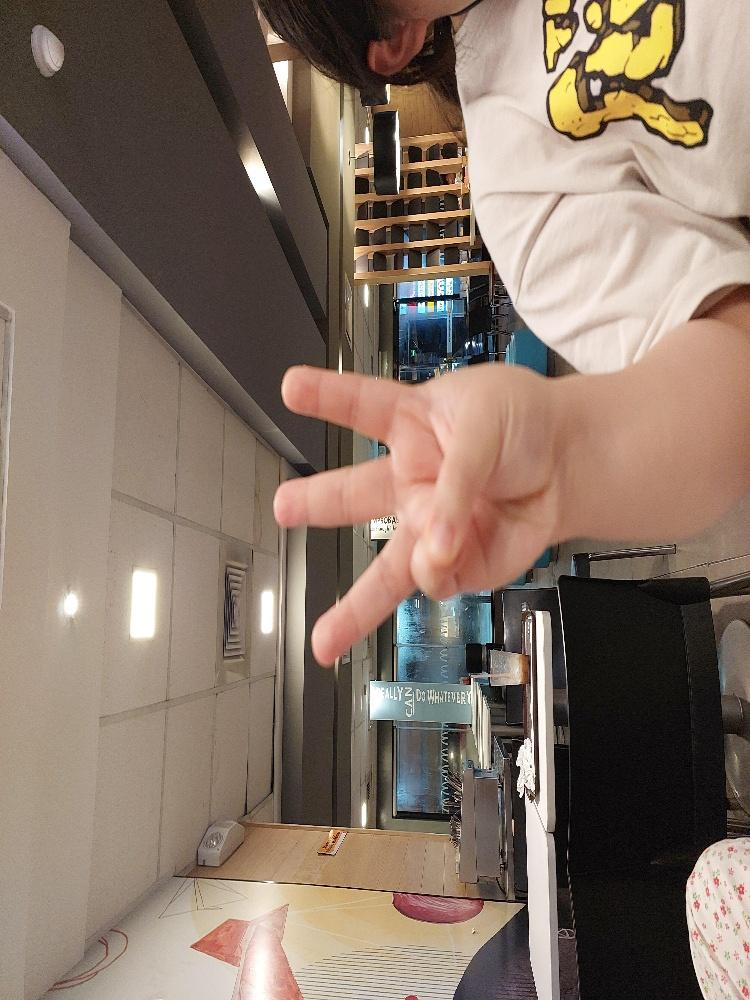w: (244, 359, 483, 749)
